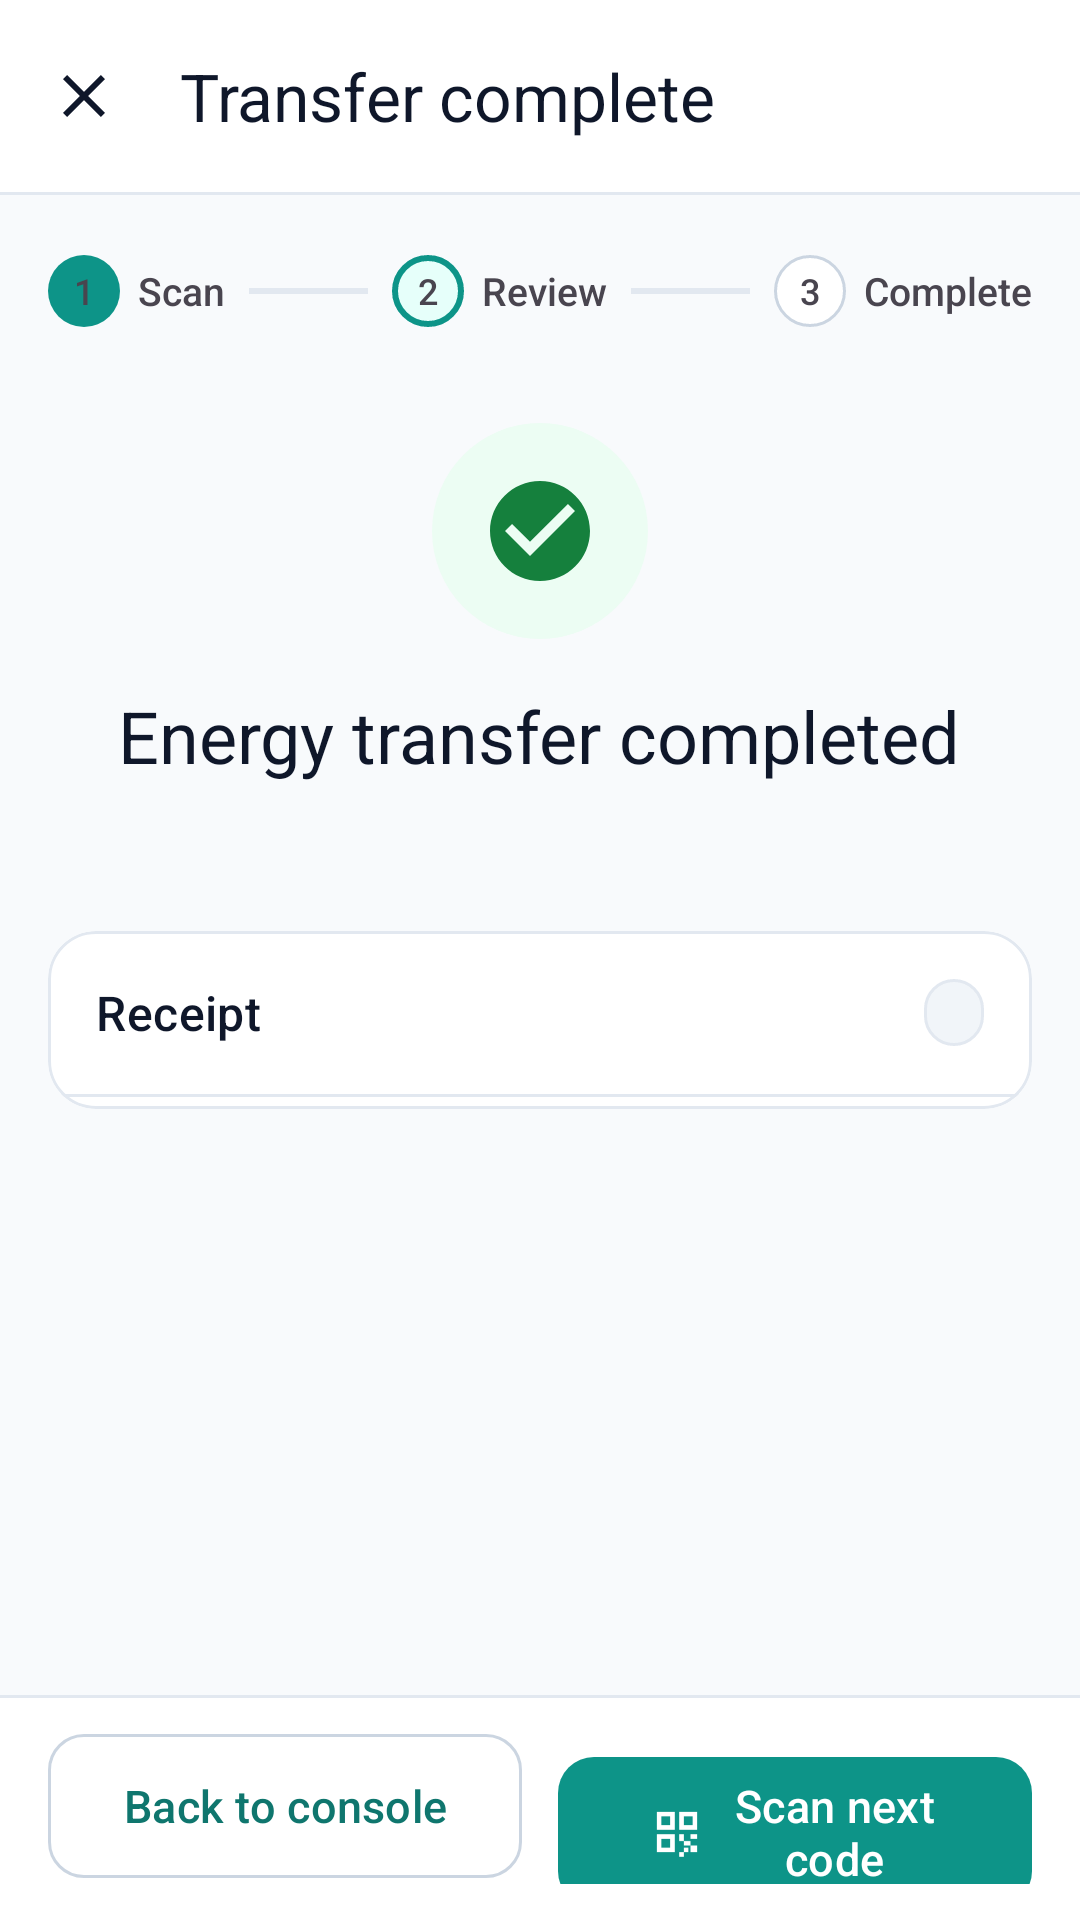

Named icons in this screenshot (1080×1920) and their bounding boxes, (x1, y1, x2, y2):
check circle: (490, 481, 590, 581)
